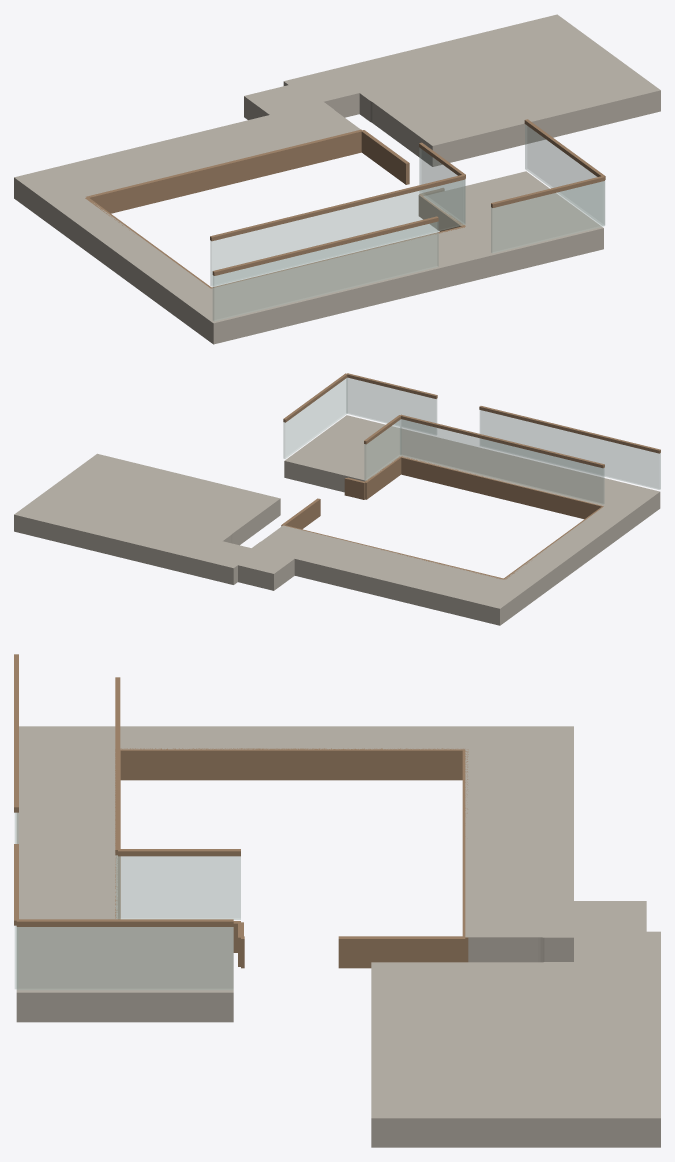
File: PERIMETER_787_r002.glb
3 views of the same model, one above another, from view 1: azimuth 30°, elevation 25°; view 2: azimuth 150°, elevation 25°; view 3: azimuth 270°, elevation 25° (orthographic). The views are drawn at different scales.
Visible parts, largest first — view 1: G2P_787_TERRACE_r002, G2P_787_RearGuardGlass_0, G2P_787_OuterGuard_2, G2P_787_PitEdge_0_0, G2P_787_OuterGuard_1, G2P_787_OuterGuard_0, G2P_787_RearGuardGlass_1, G2P_787_RearGuardRail_0, G2P_787_OuterRail_2, G2P_787_PitEdge_5_0, G2P_787_PitEdge_3_0, G2P_787_OuterRail_1 (+1 smaller); view 2: G2P_787_TERRACE_r002, G2P_787_RearGuardGlass_0, G2P_787_OuterGuard_2, G2P_787_PitEdge_2_0, G2P_787_OuterGuard_1, G2P_787_OuterGuard_0, G2P_787_RearGuardGlass_1, G2P_787_RearGuardRail_0, G2P_787_OuterRail_2, G2P_787_PitEdge_3_0, G2P_787_PitEdge_5_0, G2P_787_OuterRail_1 (+1 smaller); view 3: G2P_787_TERRACE_r002, G2P_787_OuterGuard_0, G2P_787_PitEdge_1_0, G2P_787_RearGuardGlass_1, G2P_787_PitEdge_5_0, G2P_787_OuterRail_0, G2P_787_RearGuardRail_0, G2P_787_RearGuardRail_1, G2P_787_PitEdge_0_0, G2P_787_OuterRail_2.
Boxes of the visible parts, left/top/right/bottom form: G2P_787_TERRACE_r002: left=14, top=14, right=660, bottom=344; G2P_787_RearGuardGlass_0: left=210, top=180, right=464, bottom=286; G2P_787_OuterGuard_2: left=213, top=222, right=438, bottom=321; G2P_787_PitEdge_0_0: left=86, top=129, right=362, bottom=213; G2P_787_OuterGuard_1: left=491, top=181, right=604, bottom=253; G2P_787_OuterGuard_0: left=525, top=124, right=604, bottom=225; G2P_787_RearGuardGlass_1: left=419, top=148, right=465, bottom=224; G2P_787_RearGuardRail_0: left=210, top=174, right=465, bottom=241; G2P_787_OuterRail_2: left=212, top=216, right=438, bottom=275; G2P_787_PitEdge_5_0: left=361, top=130, right=409, bottom=184; G2P_787_PitEdge_3_0: left=418, top=194, right=465, bottom=231; G2P_787_OuterRail_1: left=491, top=176, right=604, bottom=207; G2P_787_TERRACE_r002: left=14, top=415, right=660, bottom=625; G2P_787_RearGuardGlass_0: left=400, top=419, right=604, bottom=504; G2P_787_OuterGuard_2: left=480, top=410, right=660, bottom=489; G2P_787_PitEdge_2_0: left=401, top=456, right=601, bottom=519; G2P_787_OuterGuard_1: left=346, top=378, right=436, bottom=434; G2P_787_OuterGuard_0: left=283, top=378, right=347, bottom=458; G2P_787_RearGuardGlass_1: left=364, top=419, right=401, bottom=480; G2P_787_RearGuardRail_0: left=400, top=414, right=604, bottom=468; G2P_787_OuterRail_2: left=479, top=406, right=660, bottom=453; G2P_787_PitEdge_3_0: left=364, top=456, right=401, bottom=499; G2P_787_PitEdge_5_0: left=281, top=498, right=320, bottom=529; G2P_787_OuterRail_1: left=347, top=373, right=437, bottom=398; G2P_787_TERRACE_r002: left=16, top=726, right=660, bottom=1147; G2P_787_OuterGuard_0: left=17, top=927, right=233, bottom=989; G2P_787_PitEdge_1_0: left=120, top=748, right=465, bottom=780; G2P_787_RearGuardGlass_1: left=118, top=856, right=240, bottom=919; G2P_787_PitEdge_5_0: left=338, top=936, right=465, bottom=968; G2P_787_OuterRail_0: left=16, top=919, right=233, bottom=926; G2P_787_RearGuardRail_0: left=115, top=677, right=120, bottom=855; G2P_787_RearGuardRail_1: left=118, top=849, right=240, bottom=856; G2P_787_PitEdge_0_0: left=462, top=749, right=468, bottom=962; G2P_787_OuterRail_2: left=14, top=654, right=18, bottom=812.
Size of the model in its own units: 12.8 by 1.55 by 8.93.
